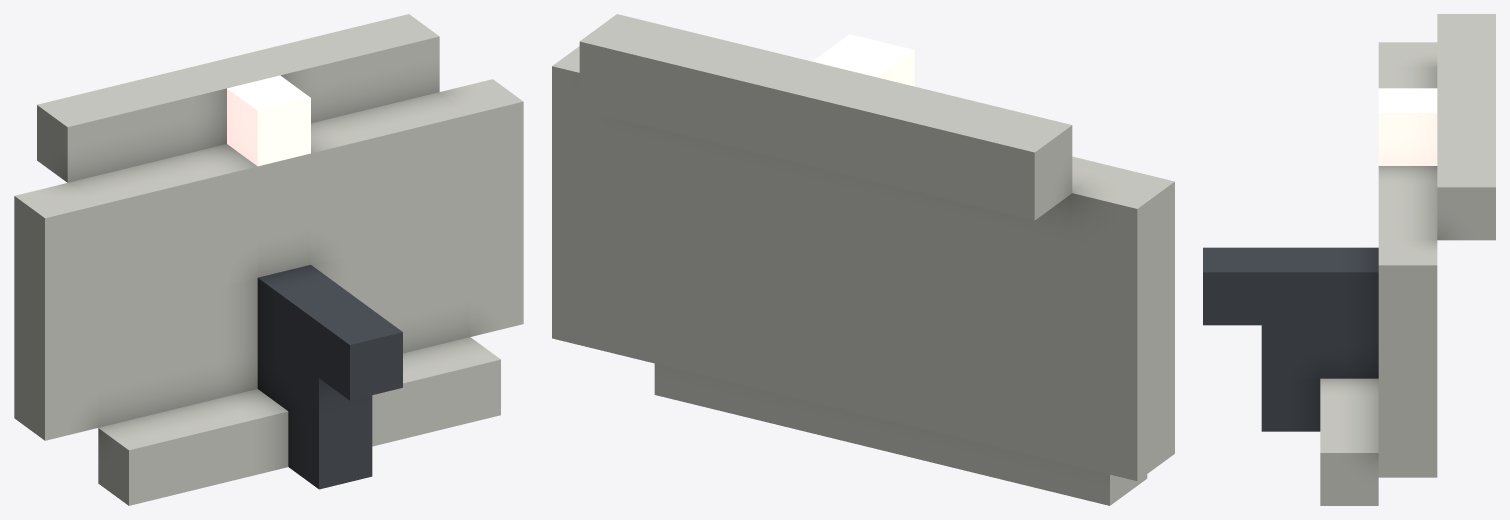
File: cm_radar.glb
The picture shows the model from 3 angles, left to right: view 1: azimuth 30°, elevation 25°; view 2: azimuth 150°, elevation 25°; view 3: azimuth 270°, elevation 25°; orthographic projection. The views are drawn at different scales.
Parts seen in each view (by area): view 1: cm_radar_body; view 2: cm_radar_body; view 3: cm_radar_body.
Part boxes in pixels (x1,y1,x2,y2): cm_radar_body: (14, 14, 523, 505); cm_radar_body: (552, 14, 1174, 505); cm_radar_body: (1203, 14, 1495, 505).
Size of the model in its own units: 0.5625 by 0.375 by 0.3125.
1 material, 1 textured.
